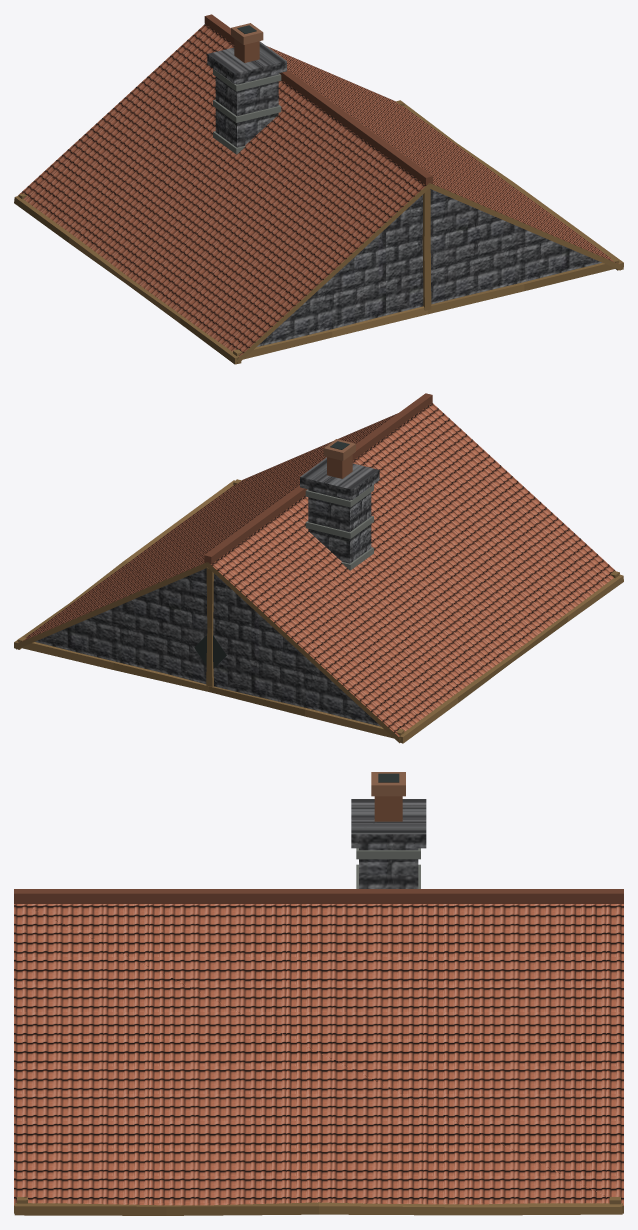
The model's file is town_Roof_01_gable.glb.
3 views of the same model, one above another, from view 1: azimuth 30°, elevation 25°; view 2: azimuth 150°, elevation 25°; view 3: azimuth 270°, elevation 25° (orthographic). The views are drawn at different scales.
Visible parts, largest first — view 1: town_Roof_01_gable.005; view 2: town_Roof_01_gable.005; view 3: town_Roof_01_gable.005.
Boxes of the visible parts, left/top/right/bottom form: town_Roof_01_gable.005: left=14, top=14, right=623, bottom=364; town_Roof_01_gable.005: left=14, top=393, right=623, bottom=743; town_Roof_01_gable.005: left=14, top=772, right=623, bottom=1215.
Bounding box in the file's own units: 7.13 × 3.49 × 7.
3 materials, 2 textured.
